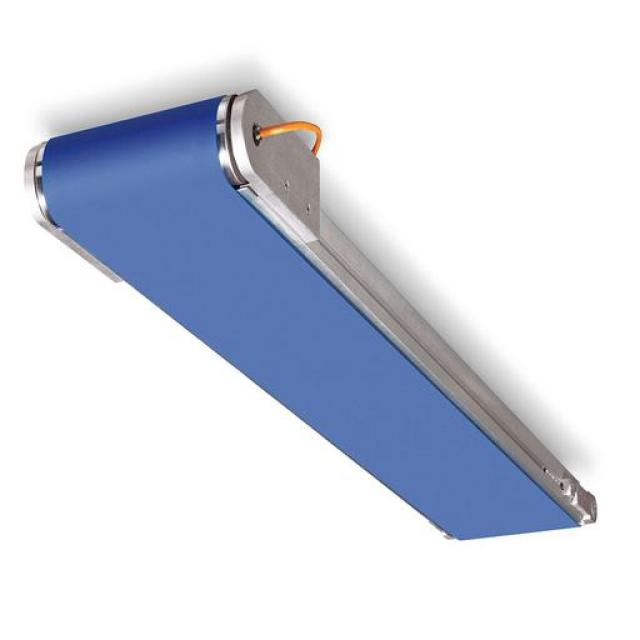conveyor: (35, 88, 583, 536)
